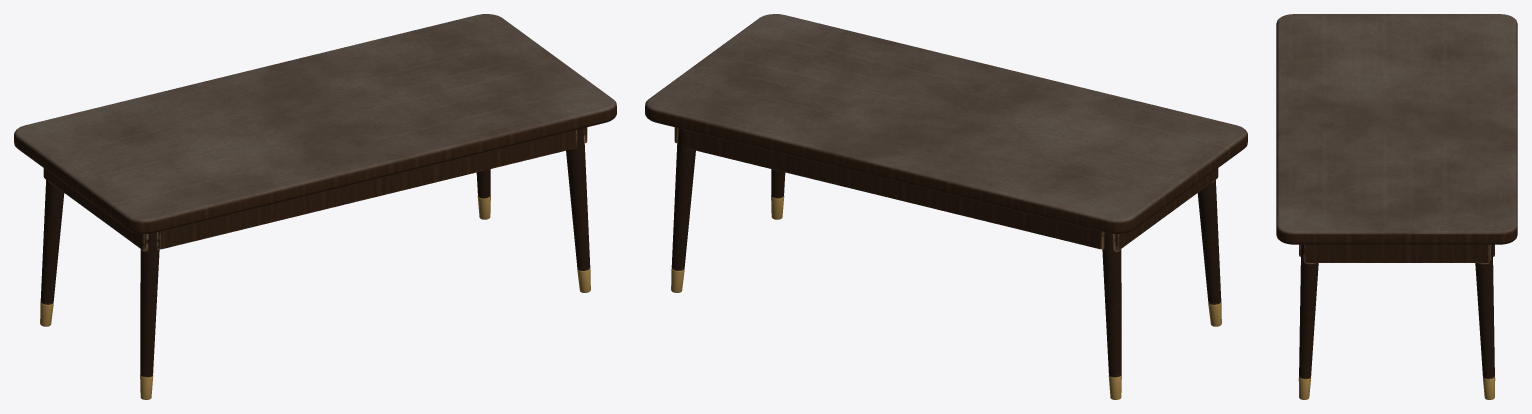
File: coffee_table.glb
The picture shows the model from 3 angles, left to right: view 1: azimuth 30°, elevation 25°; view 2: azimuth 150°, elevation 25°; view 3: azimuth 270°, elevation 25°; orthographic projection. The views are drawn at different scales.
Parts seen in each view (by area): view 1: coffee_table; view 2: coffee_table; view 3: coffee_table.
Part boxes in pixels (left/top/right/bottom): coffee_table: left=14, top=14, right=616, bottom=399; coffee_table: left=645, top=14, right=1247, bottom=399; coffee_table: left=1276, top=14, right=1517, bottom=399.
Bounding box in the file's own units: 1.12 × 0.4206 × 0.52.
1 material, 1 textured.
